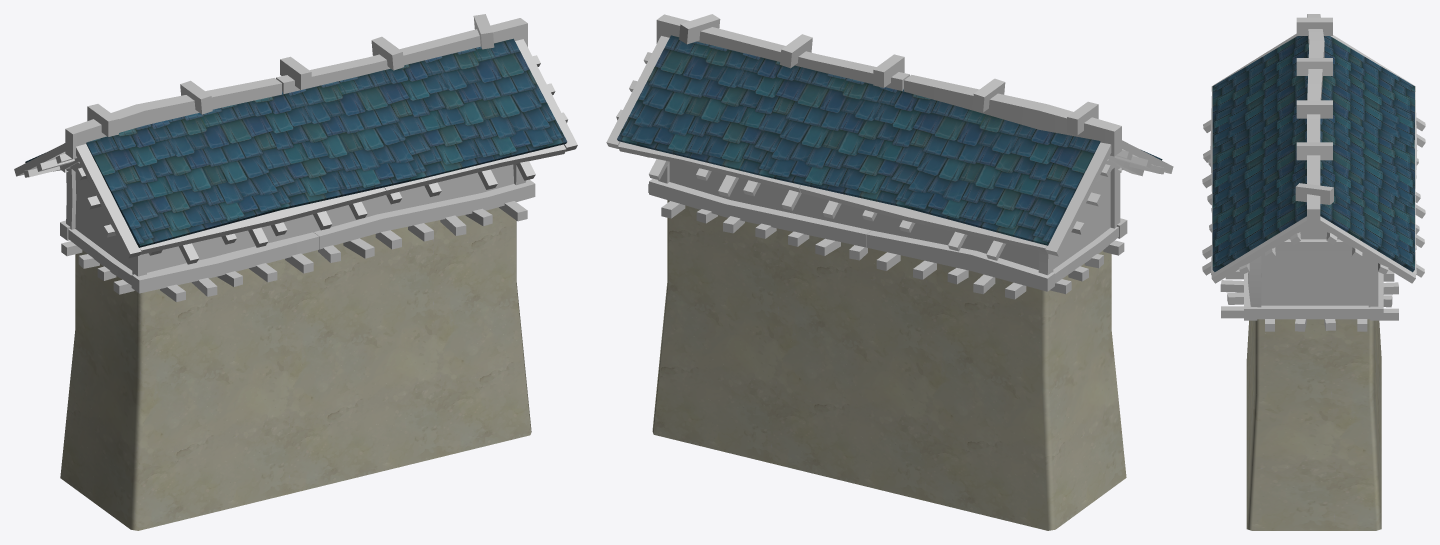
Rendered from A_WallSegment_A.fbx.
The picture shows the model from 3 angles, left to right: view 1: azimuth 30°, elevation 25°; view 2: azimuth 150°, elevation 25°; view 3: azimuth 270°, elevation 25°; orthographic projection. The views are drawn at different scales.
Visible parts, largest first — view 1: A_WallSegment_A, A_WallSegment_A_Tiles, A_WallSegment_A_KitPart; view 2: A_WallSegment_A, A_WallSegment_A_Tiles, A_WallSegment_A_KitPart; view 3: A_WallSegment_A_Tiles, A_WallSegment_A, A_WallSegment_A_KitPart.
Boxes of the visible parts, <box> form: A_WallSegment_A: <box>60,207,531,530</box>; A_WallSegment_A_Tiles: <box>25,38,567,247</box>; A_WallSegment_A_KitPart: <box>14,14,577,301</box>; A_WallSegment_A: <box>652,200,1126,530</box>; A_WallSegment_A_Tiles: <box>617,35,1162,245</box>; A_WallSegment_A_KitPart: <box>606,14,1173,299</box>; A_WallSegment_A_Tiles: <box>1212,36,1414,272</box>; A_WallSegment_A: <box>1246,319,1381,530</box>; A_WallSegment_A_KitPart: <box>1202,14,1425,331</box>.
Bounding box in the file's own units: 652 × 523 × 309.
